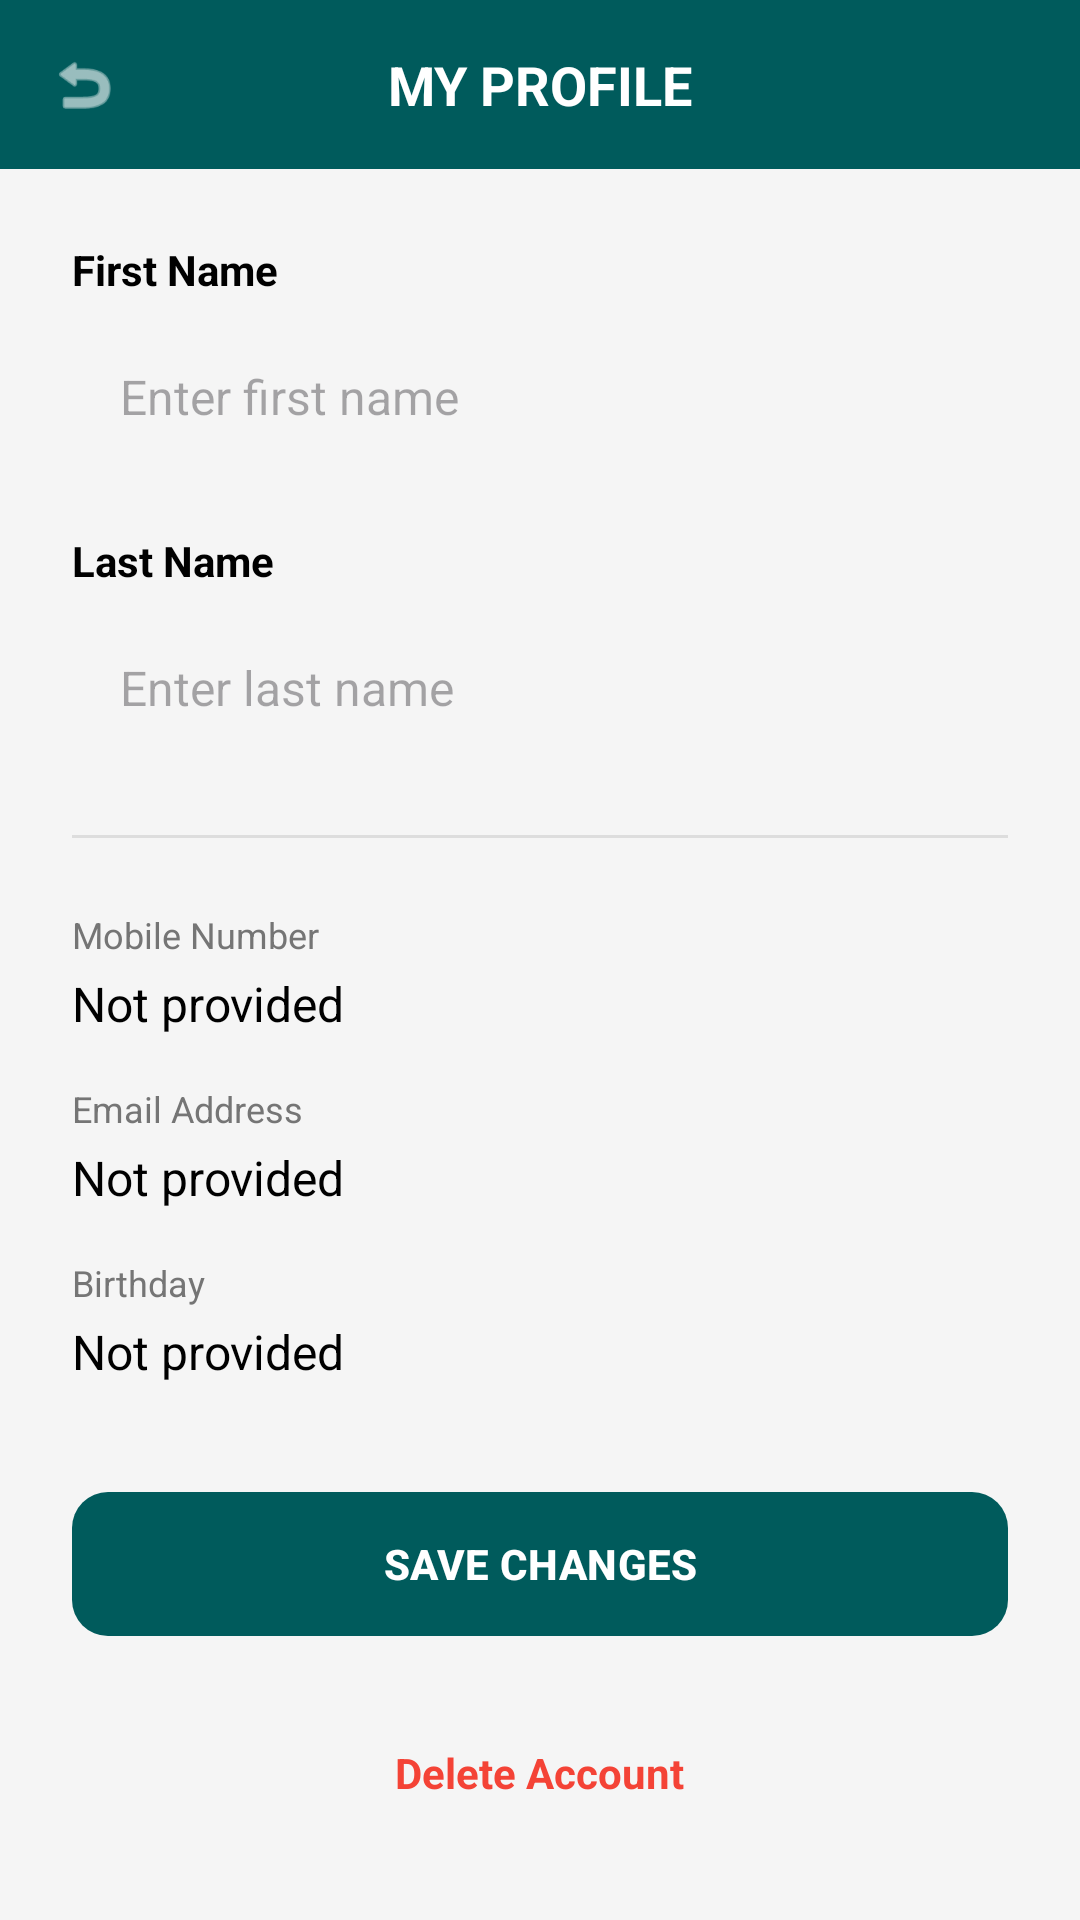

Point at icon controls on the screen. Image size 1080w x 1920h, points as [x,y].
revert: [85,85]
